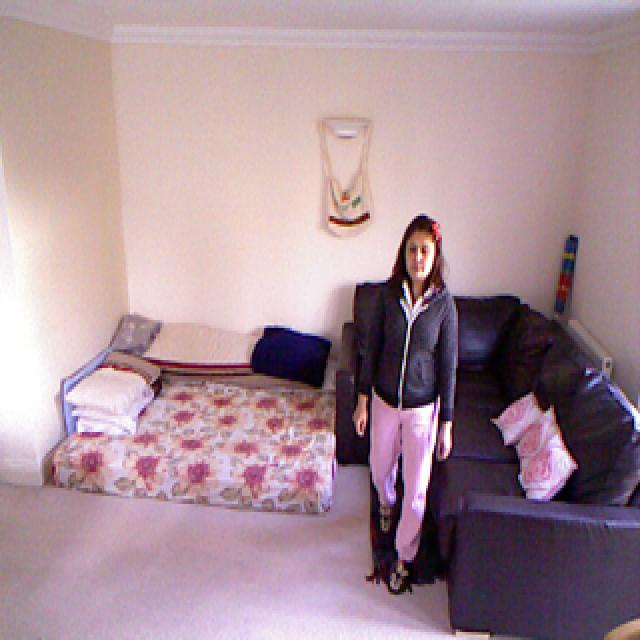standing: (354, 216, 456, 599)
